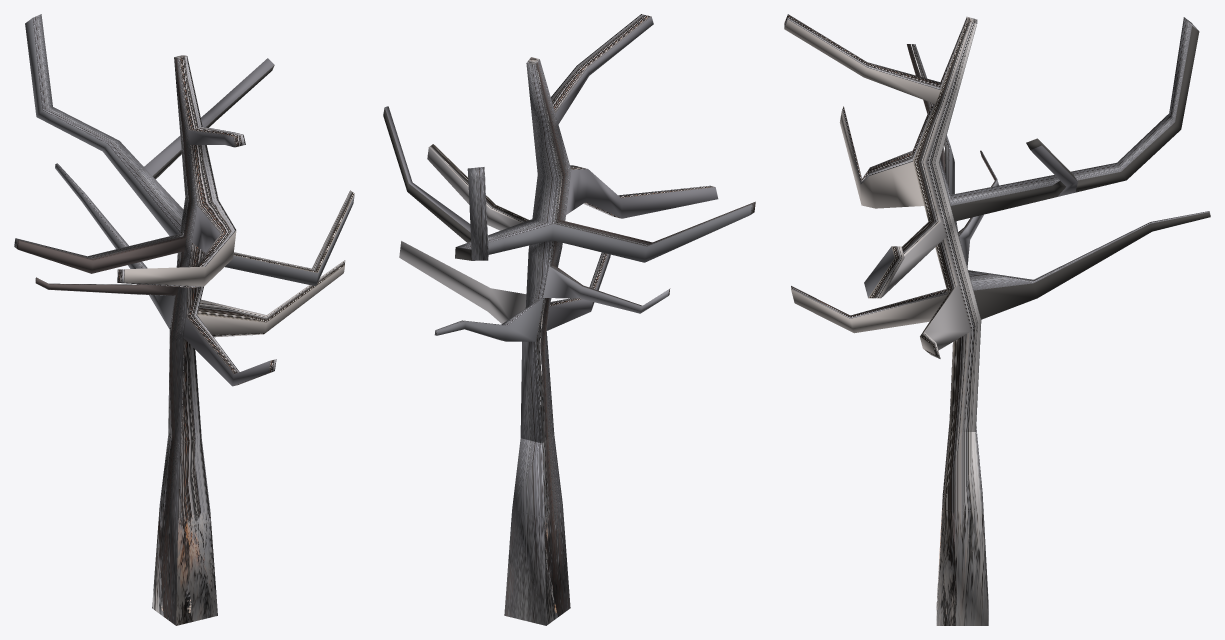
The model's file is tree.fbx.
The picture shows the model from 3 angles, left to right: view 1: azimuth 30°, elevation 25°; view 2: azimuth 150°, elevation 25°; view 3: azimuth 270°, elevation 25°; orthographic projection. The views are drawn at different scales.
Parts seen in each view (by area): view 1: tree; view 2: tree; view 3: tree.
Part boxes in pixels (x1,y1,x2,y2): tree: (14,14,354,625); tree: (383,14,755,625); tree: (784,14,1210,625).
Size of the model in its own units: 679 by 1058 by 686.
Materials: 1 (1 with a texture image).
